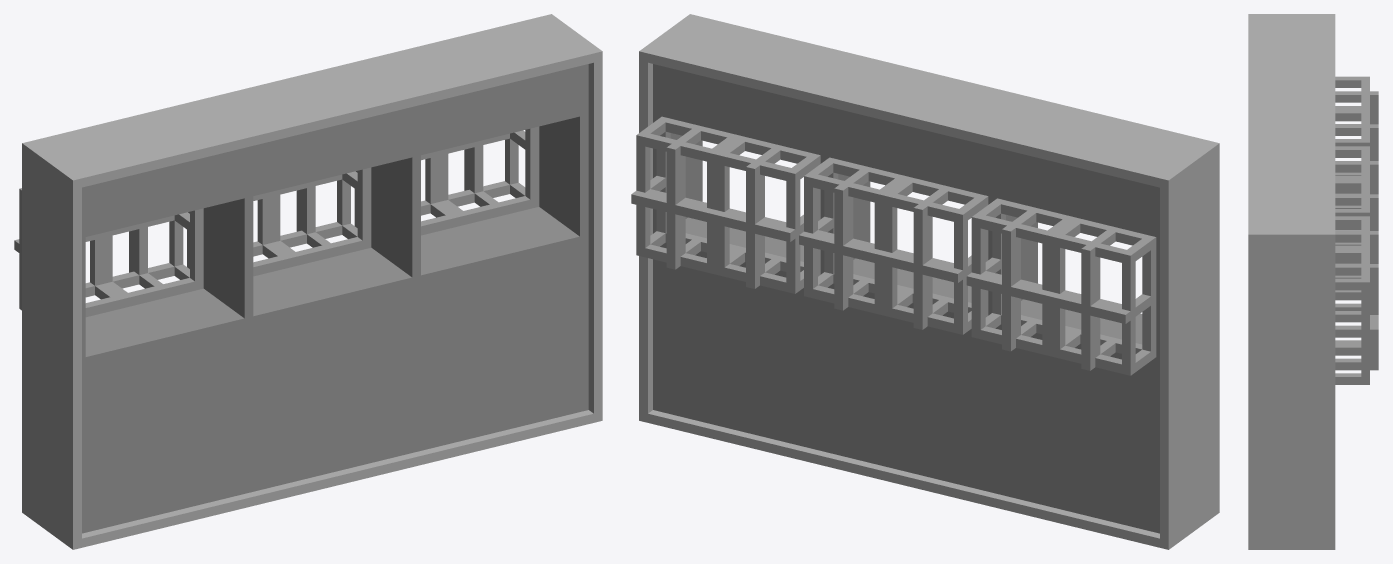
Rendered from Security Wall 1.obj.
The picture shows the model from 3 angles, left to right: view 1: azimuth 30°, elevation 25°; view 2: azimuth 150°, elevation 25°; view 3: azimuth 270°, elevation 25°; orthographic projection. The views are drawn at different scales.
Bounding box in the file's own units: 60 × 40 × 15.
Materials: 1 (1 with a texture image).
